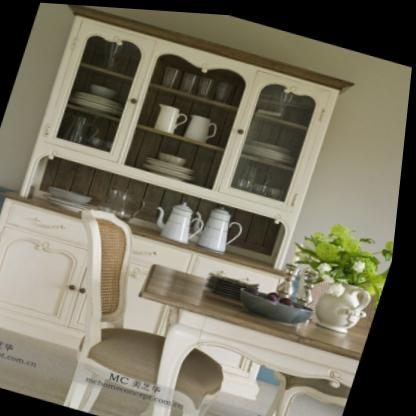Cupboard: (0, 4, 353, 351)
